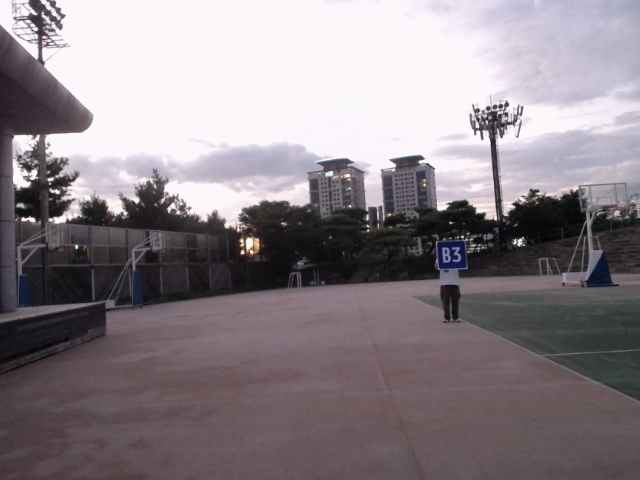delivery_b3: (435, 240, 469, 271)
